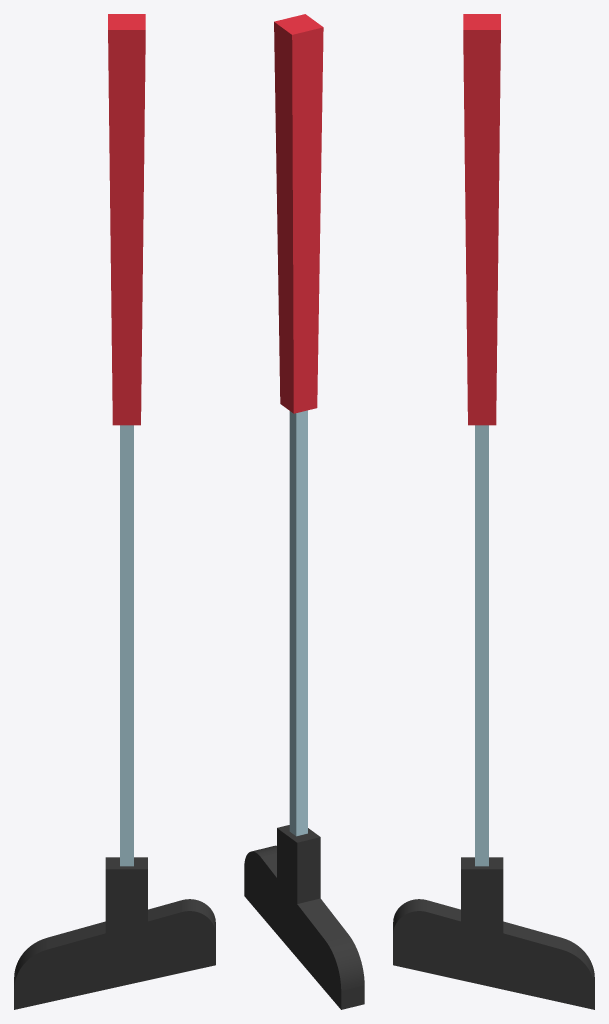
The model's file is club_red.fbx.
3 renders of one model, left to right at view 1: azimuth 90°, elevation 25°; view 2: azimuth 210°, elevation 25°; view 3: azimuth 270°, elevation 25°, orthographic. The views are drawn at different scales.
Visible parts, largest first — view 1: club_red; view 2: club_red; view 3: club_red.
Boxes of the visible parts, x1,y1,x2,y2 form: club_red: [14, 14, 215, 1009]; club_red: [244, 14, 364, 1009]; club_red: [393, 14, 594, 1009].
Bounding box in the file's own units: 0.3453 × 9.9 × 1.84.
